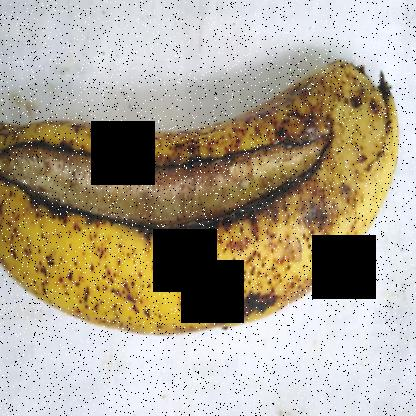rotten: (0, 63, 340, 292)
